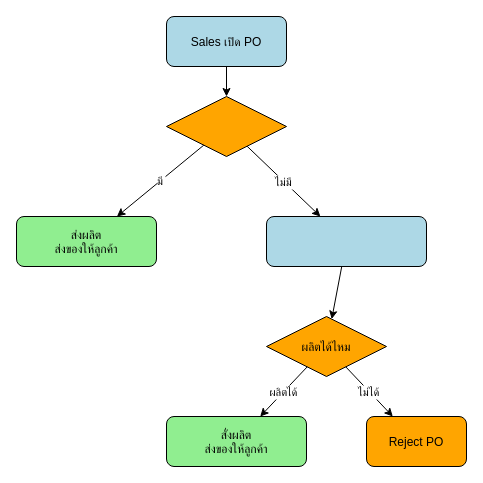
This 483x483 diagram has some shape labels left out. The centre of each missing label's shape, as x and y in pixels:
"WH ตรวจสอบ stock" goes at pixel 226 126.
"ส่งเรื่องให้ PN วางแผน" goes at pixel 346 241.
